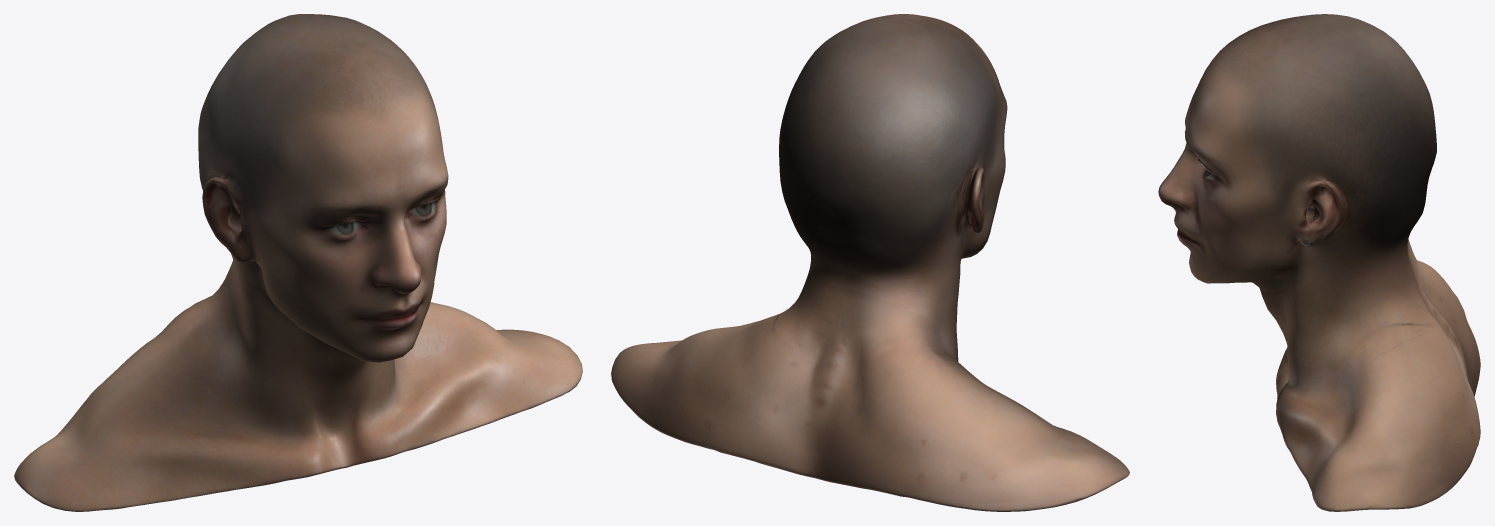
The picture shows the model from 3 angles, left to right: view 1: azimuth 30°, elevation 25°; view 2: azimuth 150°, elevation 25°; view 3: azimuth 270°, elevation 25°; orthographic projection. The views are drawn at different scales.
Size of the model in its own units: 1.99 by 1.48 by 1.13.
Materials: 1 (1 with a texture image).
